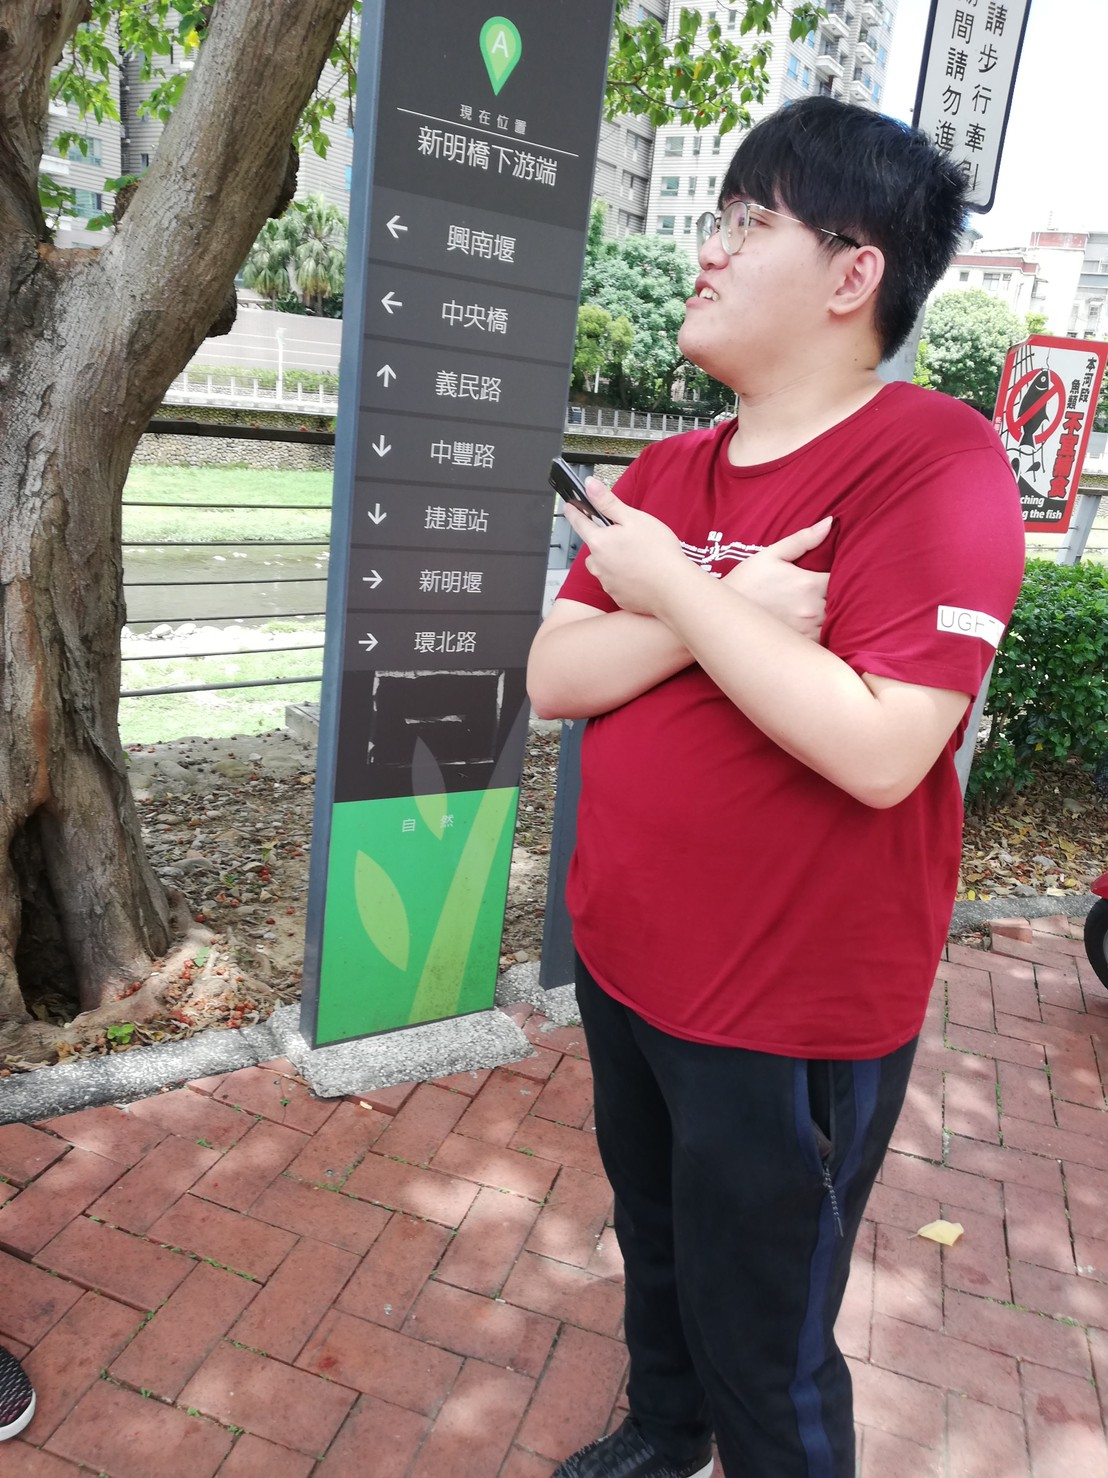people: (595, 107, 921, 1478)
